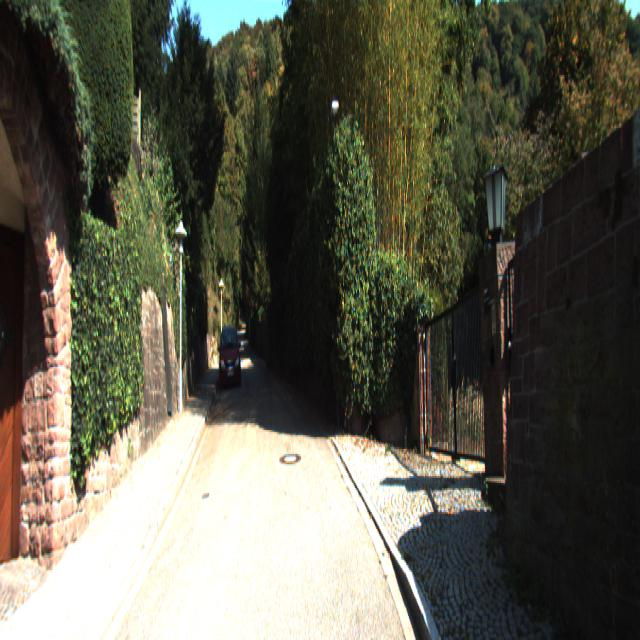Car: (218, 322, 241, 392)
